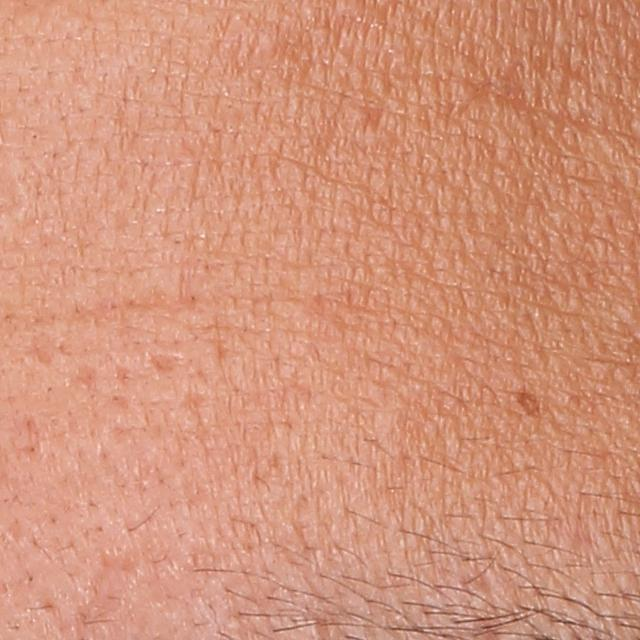atrophic_scar: (148, 349, 185, 379), (28, 332, 60, 366)
comedo: (346, 104, 376, 130)
nevus: (507, 381, 548, 422)
